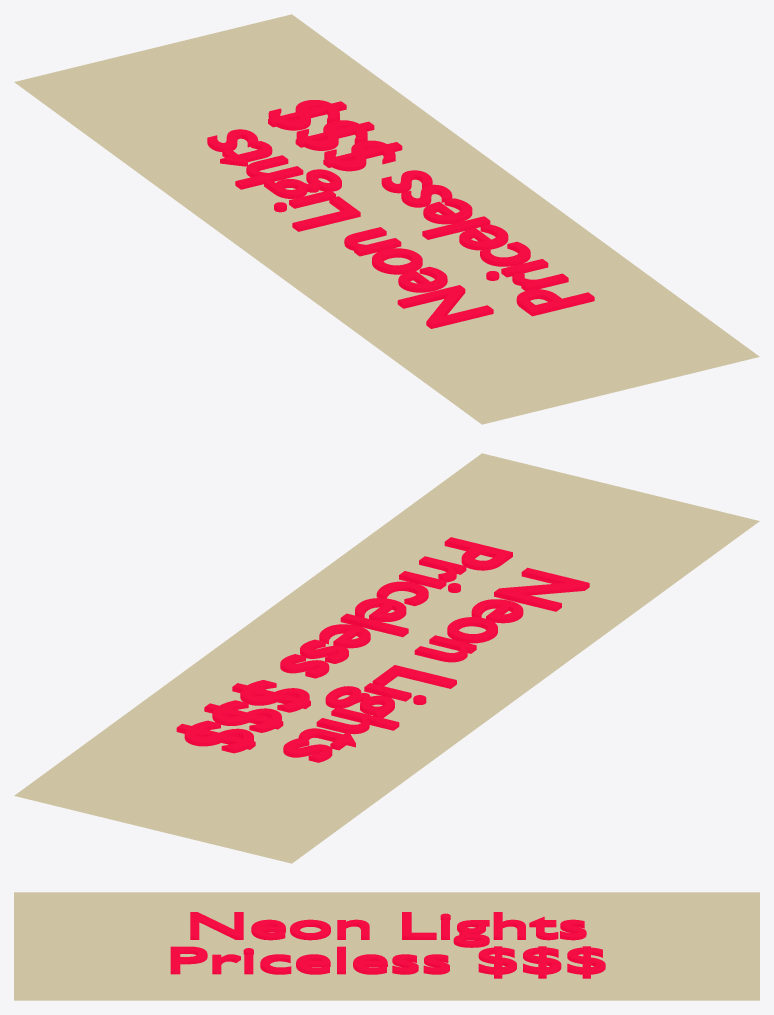
The model's file is neon_shading.gltf.
3 renders of one model, top to bottom at view 1: azimuth 30°, elevation 25°; view 2: azimuth 150°, elevation 25°; view 3: azimuth 270°, elevation 25°, orthographic. The views are drawn at different scales.
Parts seen in each view (by area): view 1: Plane, Text; view 2: Plane, Text; view 3: Plane, Text.
Part boxes in pixels (left/top/right/bottom): Plane: left=14, top=14, right=759, bottom=424; Text: left=207, top=100, right=594, bottom=328; Plane: left=14, top=453, right=759, bottom=863; Text: left=176, top=537, right=589, bottom=762; Plane: left=14, top=892, right=759, bottom=1000; Text: left=170, top=912, right=605, bottom=978.
Bounding box in the file's own units: 3.13 × 0.06 × 9.13.
